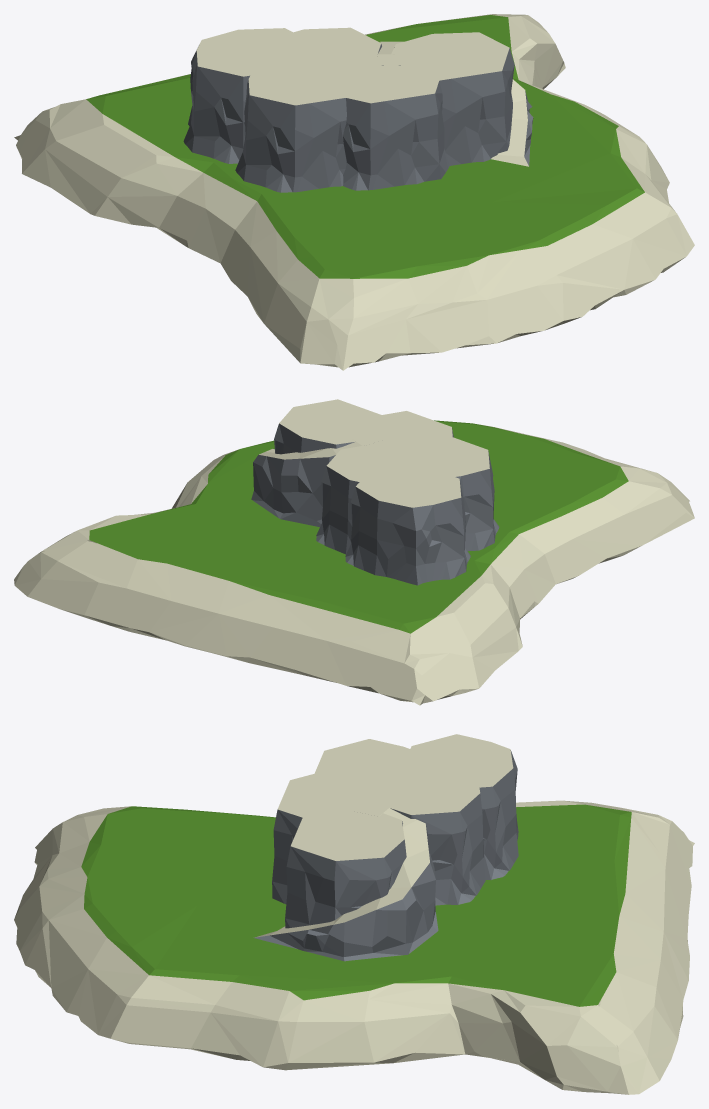
The model's file is Nivel_Isla_02 (Modelo).fbx.
3 renders of one model, top to bottom at view 1: azimuth 30°, elevation 25°; view 2: azimuth 150°, elevation 25°; view 3: azimuth 270°, elevation 25°, orthographic. The views are drawn at different scales.
Parts seen in each view (by area): view 1: Nivel_Isla_02; view 2: Nivel_Isla_02; view 3: Nivel_Isla_02.
Boxes of the visible parts, bbox=[...] form: Nivel_Isla_02: bbox=[14, 14, 694, 370]; Nivel_Isla_02: bbox=[14, 399, 694, 705]; Nivel_Isla_02: bbox=[14, 734, 694, 1094].
Bounding box in the file's own units: 52.27 × 13.28 × 56.34.
